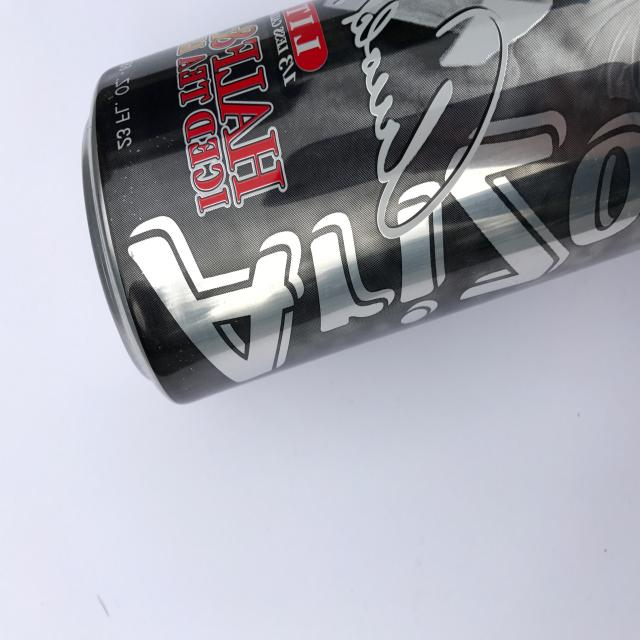metal: (81, 0, 640, 405)
